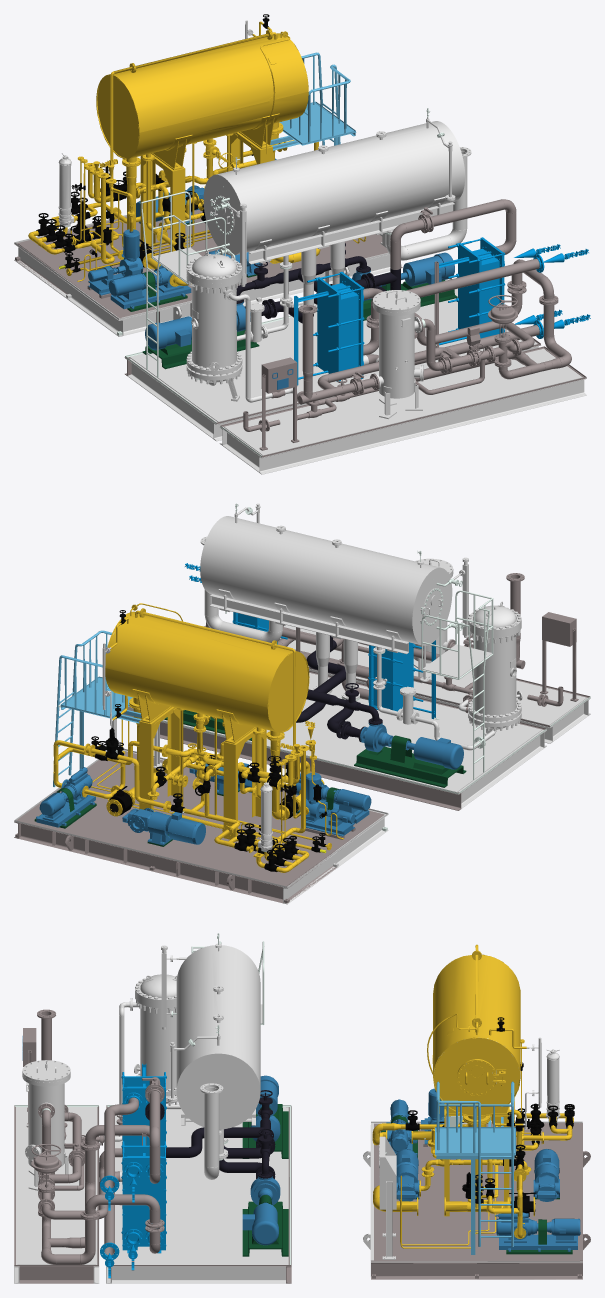
Rendered from modelv20_12.glb.
The picture shows the model from 3 angles, top to bottom: view 1: azimuth 30°, elevation 25°; view 2: azimuth 150°, elevation 25°; view 3: azimuth 270°, elevation 25°; orthographic projection. The views are drawn at different scales.
Visible parts, largest first — view 1: Mesh.8221, Mesh.9094, Mesh.8220, Mesh.9469, Mesh.8232, Mesh.8905, Mesh.8546, Mesh.8821, Mesh.8981, Mesh.8541, Mesh.8859, Mesh.8230 (+26 smaller); view 2: Mesh.8221, Mesh.9094, Mesh.8905, Mesh.9469, Mesh.9011, Mesh.8284, Mesh.8220, Mesh.8821, Mesh.515, Mesh.9422, Mesh.514, Mesh.8858 (+22 smaller); view 3: Mesh.8221, Mesh.8905, Mesh.9094, Mesh.9469, Mesh.8220, Mesh.8546, Mesh.8301, Mesh.8821, Mesh.8858, Mesh.9490, Mesh.9351, Mesh.8962 (+29 smaller).
Boxes of the visible parts, x1=… form: Mesh.8221: x1=203, y1=117, x2=465, y2=307; Mesh.9094: x1=96, y1=21, x2=308, y2=170; Mesh.8220: x1=224, y1=349, x2=582, y2=455; Mesh.9469: x1=129, y1=279, x2=537, y2=422; Mesh.8232: x1=259, y1=377, x2=586, y2=474; Mesh.8905: x1=18, y1=209, x2=388, y2=318; Mesh.8546: x1=372, y1=290, x2=423, y2=419; Mesh.8821: x1=192, y1=283, x2=236, y2=367; Mesh.8981: x1=122, y1=252, x2=390, y2=335; Mesh.8541: x1=317, y1=277, x2=340, y2=381; Mesh.8859: x1=108, y1=265, x2=191, y2=309; Mesh.8230: x1=127, y1=358, x2=216, y2=438; Mesh.8221: x1=200, y1=512, x2=452, y2=699; Mesh.9094: x1=105, y1=607, x2=309, y2=743; Mesh.8905: x1=18, y1=750, x2=384, y2=886; Mesh.9469: x1=162, y1=673, x2=541, y2=792; Mesh.9011: x1=18, y1=821, x2=284, y2=903; Mesh.8284: x1=160, y1=722, x2=461, y2=810; Mesh.8220: x1=280, y1=625, x2=586, y2=725; Mesh.8821: x1=473, y1=634, x2=516, y2=715; Mesh.515: x1=354, y1=735, x2=466, y2=787; Mesh.9422: x1=122, y1=808, x2=205, y2=845; Mesh.514: x1=360, y1=723, x2=463, y2=769; Mesh.8858: x1=36, y1=767, x2=95, y2=827; Mesh.8221: x1=176, y1=943, x2=260, y2=1157; Mesh.8905: x1=374, y1=1123, x2=579, y2=1261; Mesh.9094: x1=432, y1=954, x2=526, y2=1125; Mesh.9469: x1=112, y1=1107, x2=288, y2=1264; Mesh.8220: x1=17, y1=1107, x2=96, y2=1264; Mesh.8546: x1=22, y1=1060, x2=70, y2=1190; Mesh.8301: x1=112, y1=1266, x2=285, y2=1283; Mesh.8821: x1=140, y1=1005, x2=176, y2=1089; Mesh.8858: x1=495, y1=1212, x2=580, y2=1251; Mesh.9490: x1=122, y1=1156, x2=165, y2=1250; Mesh.9351: x1=435, y1=1128, x2=515, y2=1155; Mesh.8962: x1=371, y1=1260, x2=476, y2=1279.
Size of the model in its own units: 66.13 by 38.23 by 87.03.
